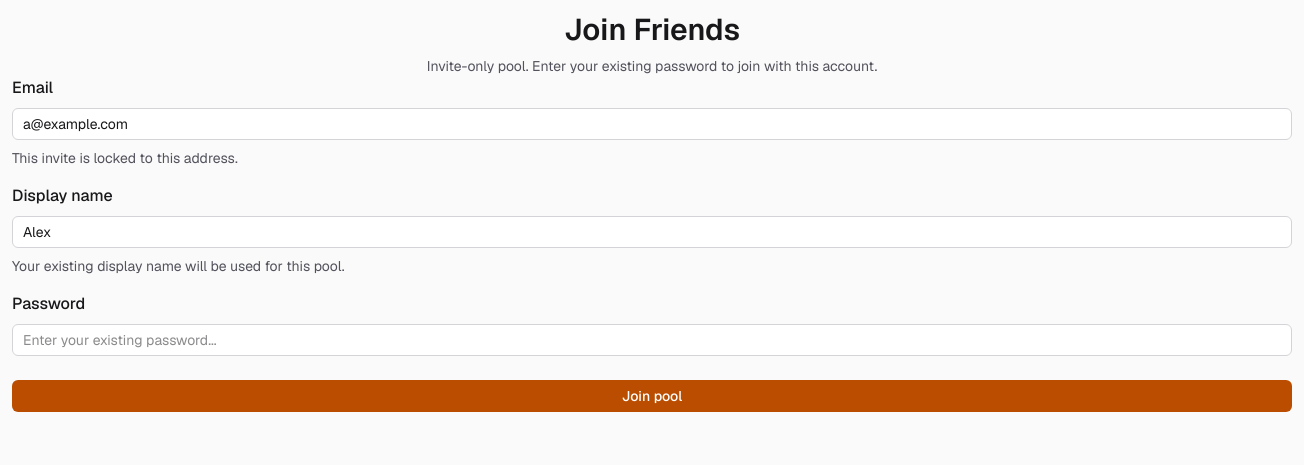
Test: auth forms › should reset Turnstile from JoinPanel after a failed submit
Expected: the text "Enter your existing password" is shown, [427,57,877,75]
Type "password1" into the password field labelled "Password" at (652, 340), box [12,324,1292,356]
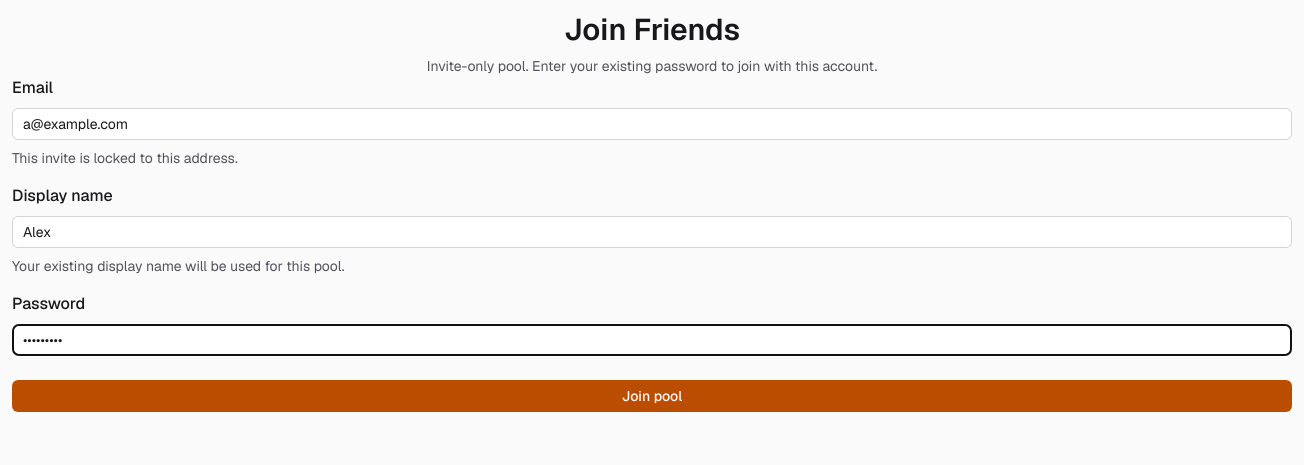
Click the button "Join pool" at (652, 396), box [12,380,1292,412]
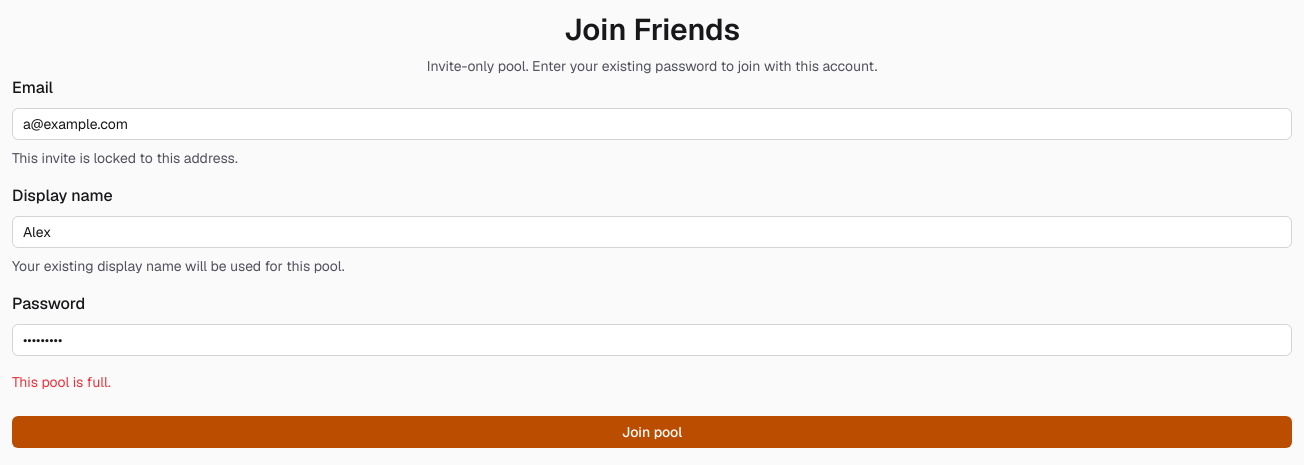
Expected: the message reads "This pool is full.", [12,373,111,391]
